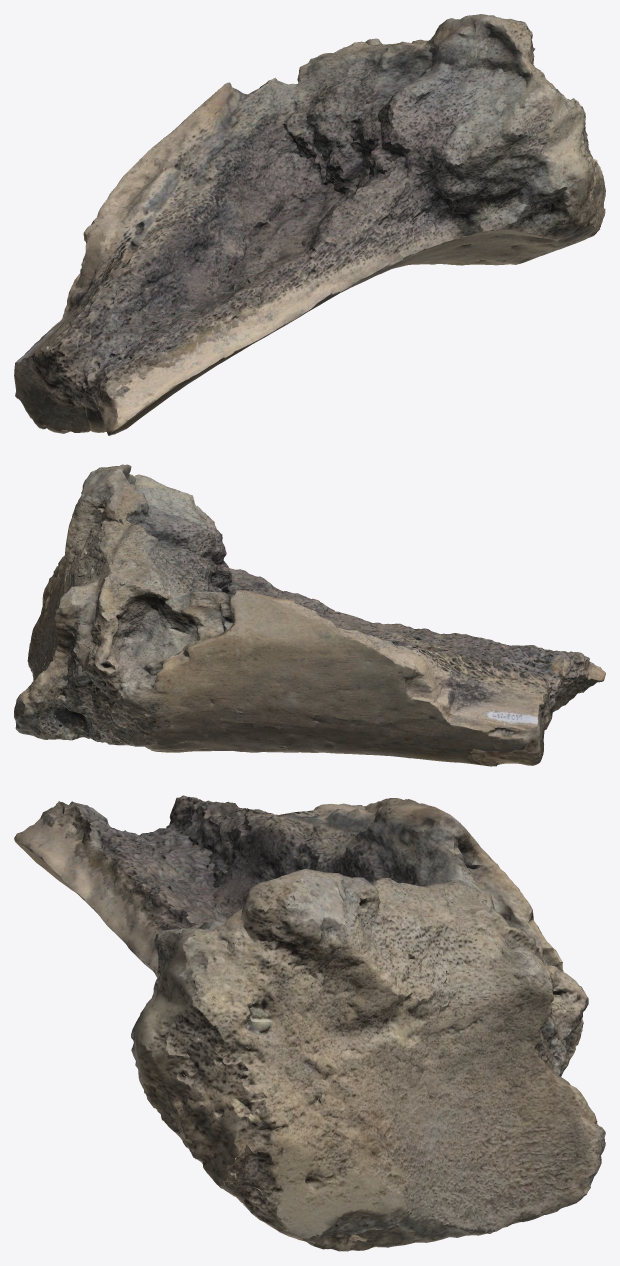
Rendered from asset.glb.
The picture shows the model from 3 angles, top to bottom: view 1: azimuth 30°, elevation 25°; view 2: azimuth 150°, elevation 25°; view 3: azimuth 270°, elevation 25°; orthographic projection. The views are drawn at different scales.
Visible parts, largest first — view 1: Mesh_0; view 2: Mesh_0; view 3: Mesh_0.
Boxes of the visible parts, x1,y1,x2,y2 form: Mesh_0: [14, 14, 605, 435]; Mesh_0: [14, 464, 605, 766]; Mesh_0: [14, 795, 605, 1251].
Size of the model in its own units: 1.11 by 0.4858 by 0.741.
Materials: 1 (1 with a texture image).
